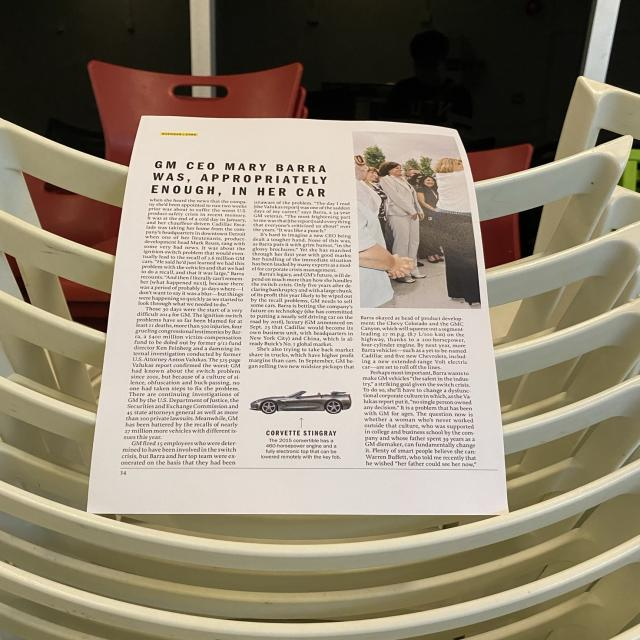document: (88, 116, 507, 515)
